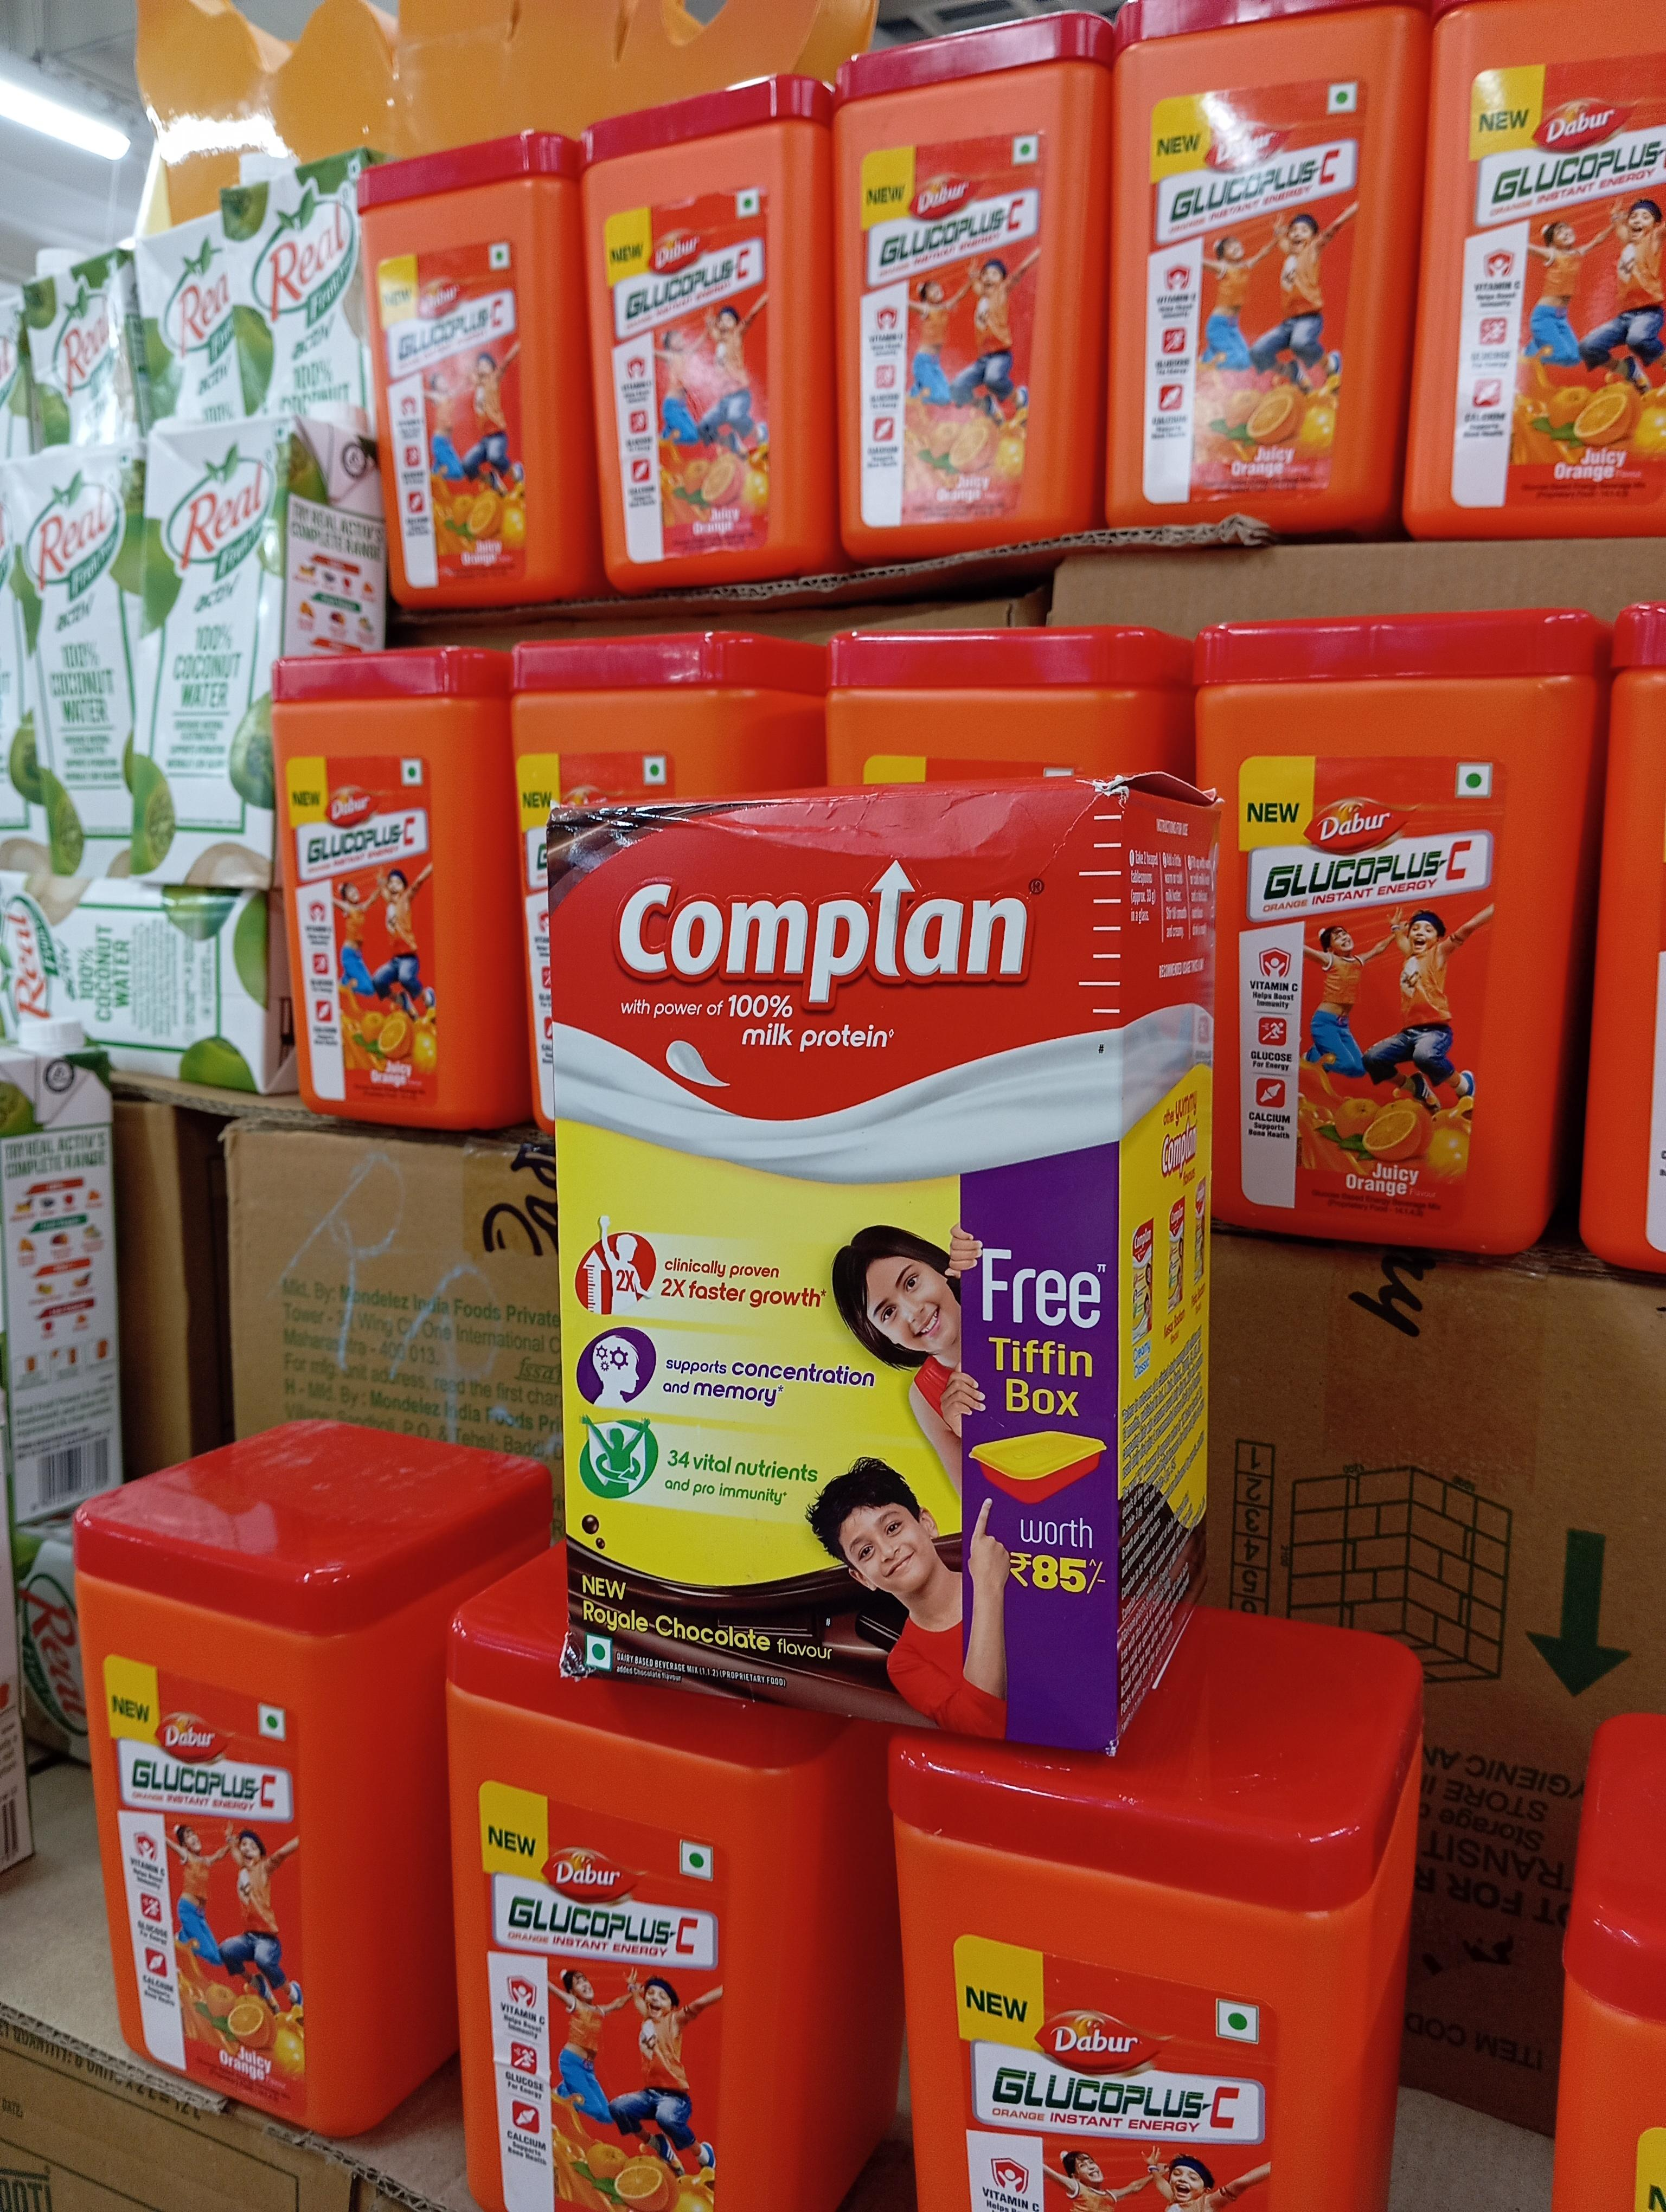COMPLAN_CHOCOLATE_500_GMS_PACK: (567, 799, 1097, 1726)
